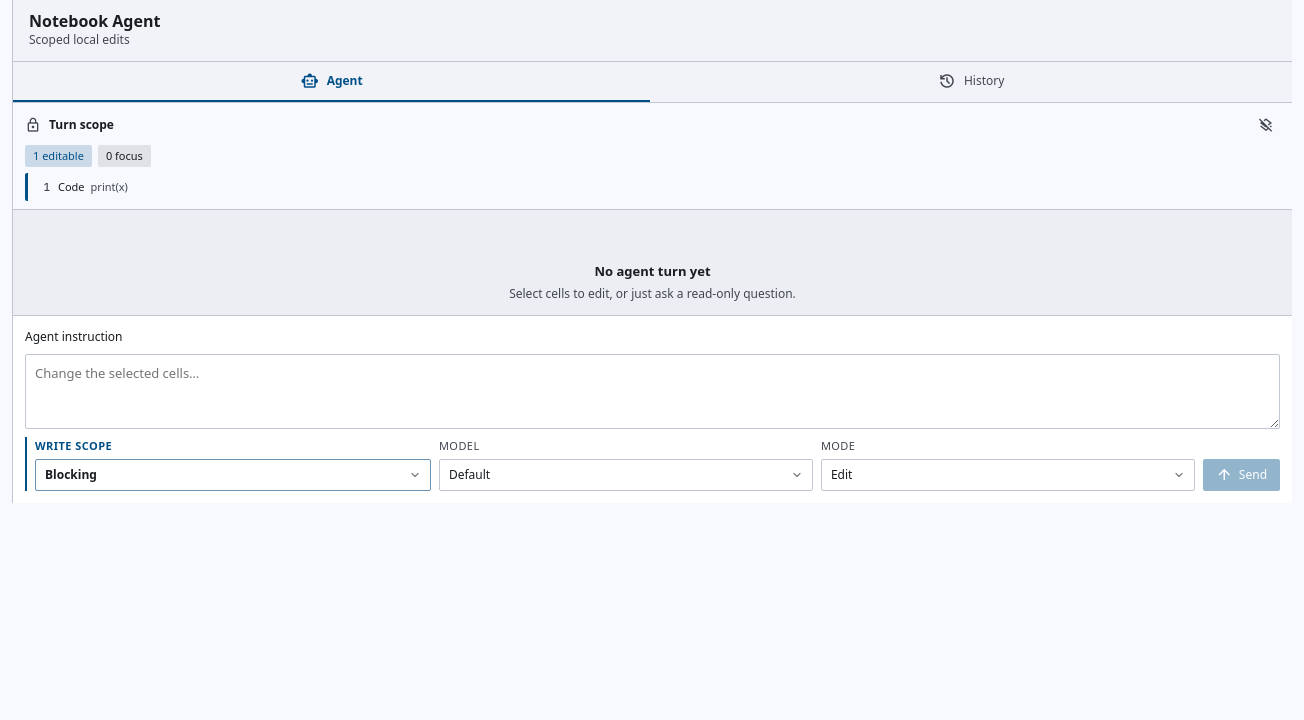
Scenario: AgentChatPanel write scope (Trusted mode) › disables the scope toggle in Plan mode (write scope has no effect)
Select "Plan" in the dropdown named "Agent mode" at (1008, 475), box [821, 459, 1195, 491]
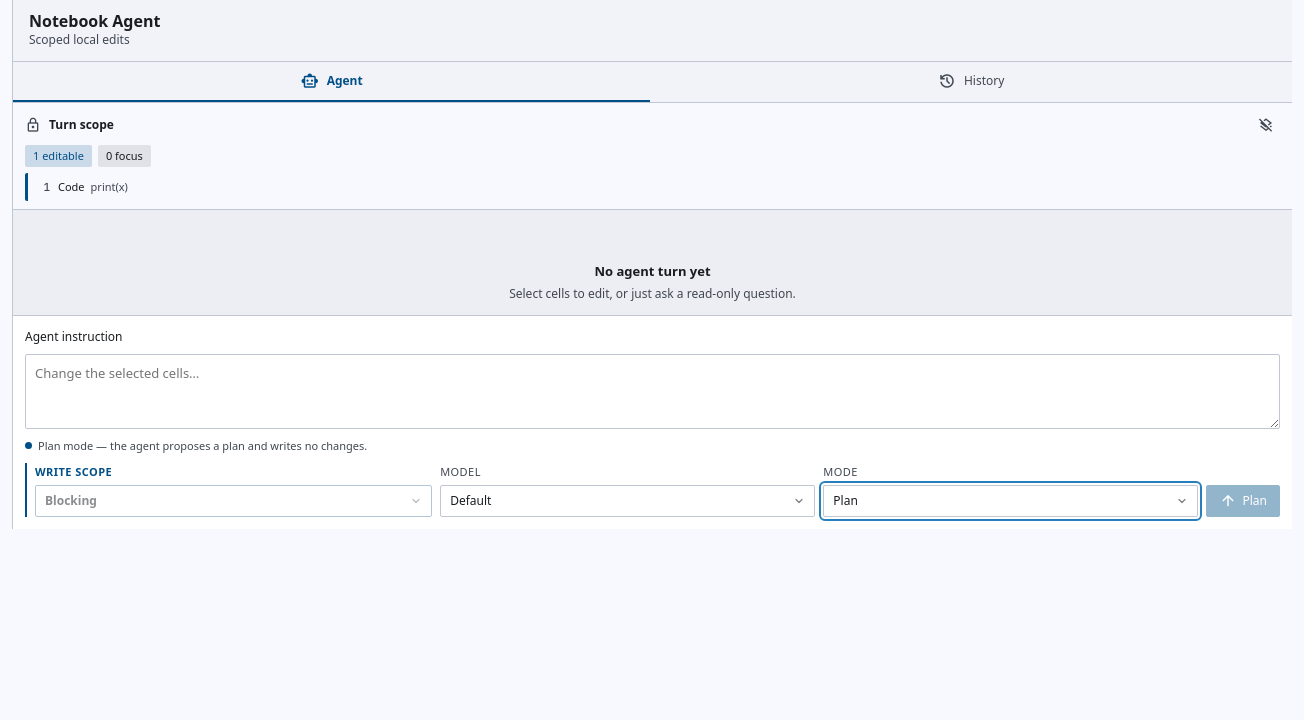
Expected: the dropdown labelled "Write scope" is disabled, [35, 485, 432, 517]
